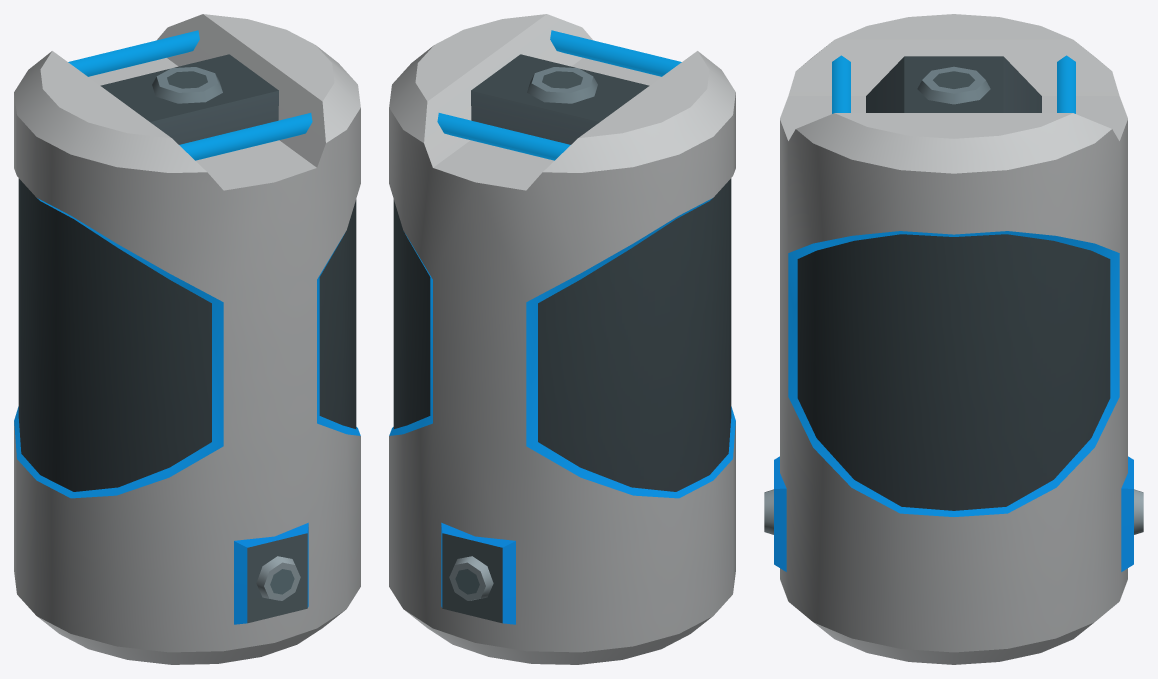
File: Barrel_002.glb
3 views of the same model, side by side, from view 1: azimuth 30°, elevation 25°; view 2: azimuth 150°, elevation 25°; view 3: azimuth 270°, elevation 25° (orthographic).
Visible parts, largest first — view 1: Barrel_002; view 2: Barrel_002; view 3: Barrel_002.
Boxes of the visible parts, x1,y1,x2,y2 form: Barrel_002: [14, 14, 360, 664]; Barrel_002: [389, 14, 735, 664]; Barrel_002: [764, 14, 1143, 664].
Bounding box in the file's own units: 0.6 × 1 × 0.6529.
Materials: 2 (2 with a texture image).
